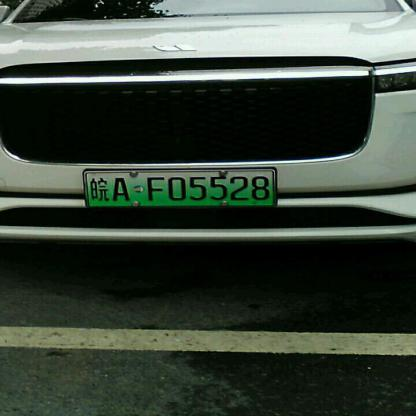lp: (86, 172, 273, 206)
